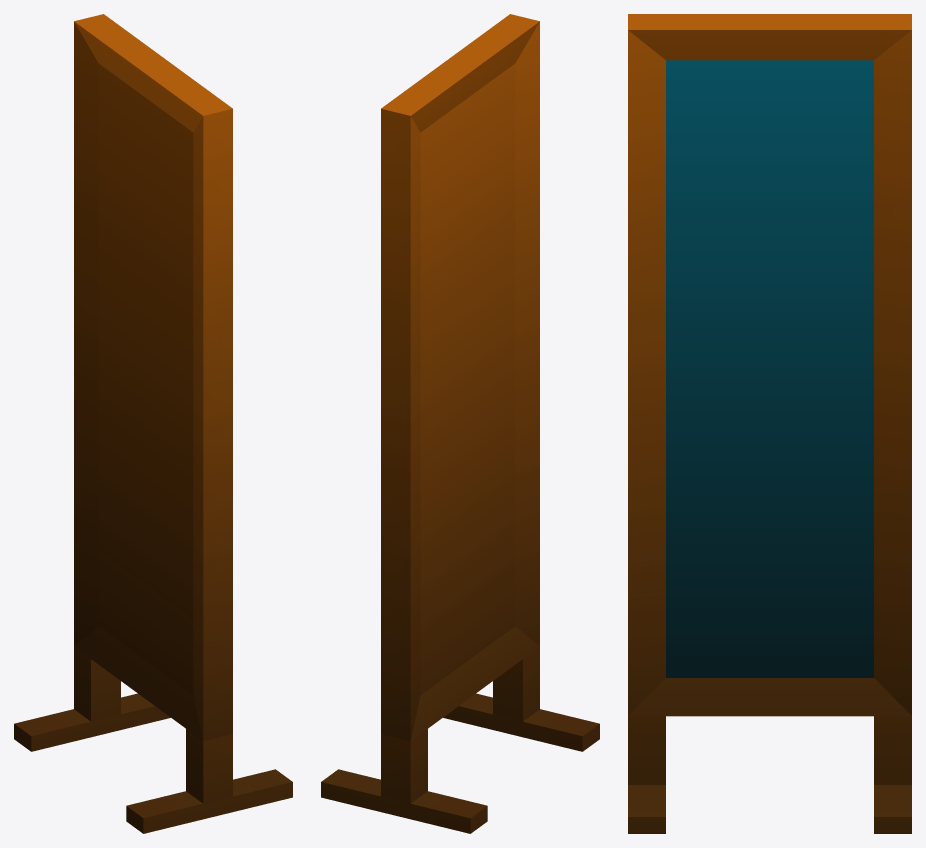
The model's file is exhibit-display-tall-1.FBX.
The picture shows the model from 3 angles, left to right: view 1: azimuth 30°, elevation 25°; view 2: azimuth 150°, elevation 25°; view 3: azimuth 270°, elevation 25°; orthographic projection. The views are drawn at different scales.
Visible parts, largest first — view 1: displaywall001, foot003, foot004, leg003, leg004; view 2: displaywall001, foot004, foot003, leg004, leg003; view 3: displaywall001, leg003, leg004, foot003, foot004.
Boxes of the visible parts, x1,y1,x2,y2 form: displaywall001: (74,14,232,741); foot003: (126,769,292,833); foot004: (14,693,170,751); leg003: (186,729,232,803); leg004: (74,647,120,721); displaywall001: (381,14,539,741); foot004: (321,769,487,833); foot003: (443,693,599,751); leg004: (381,729,427,803); leg003: (493,647,539,721); displaywall001: (628,14,911,716); leg003: (628,716,665,784); leg004: (874,716,911,784); foot003: (628,785,665,833); foot004: (874,785,911,833).
Bounding box in the file's own units: 0.5 × 0.75 × 2.25.
1 material, 1 textured.
